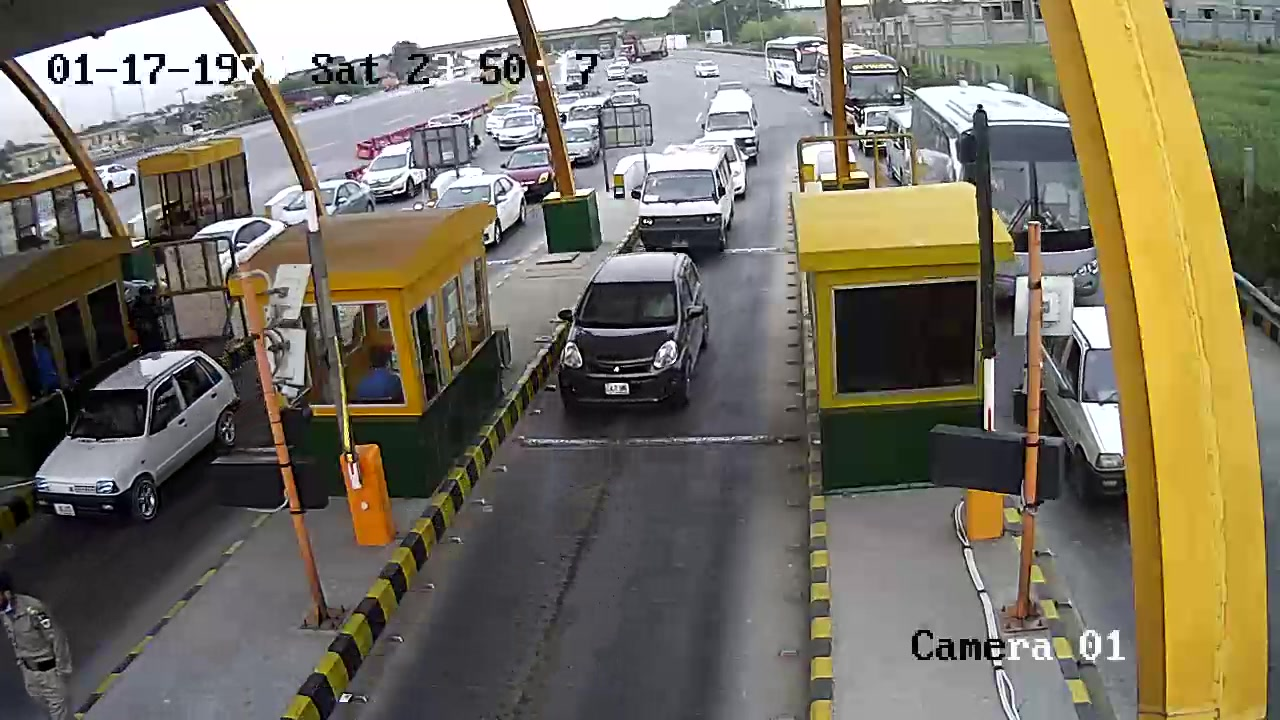F1: (555, 250, 709, 420)
